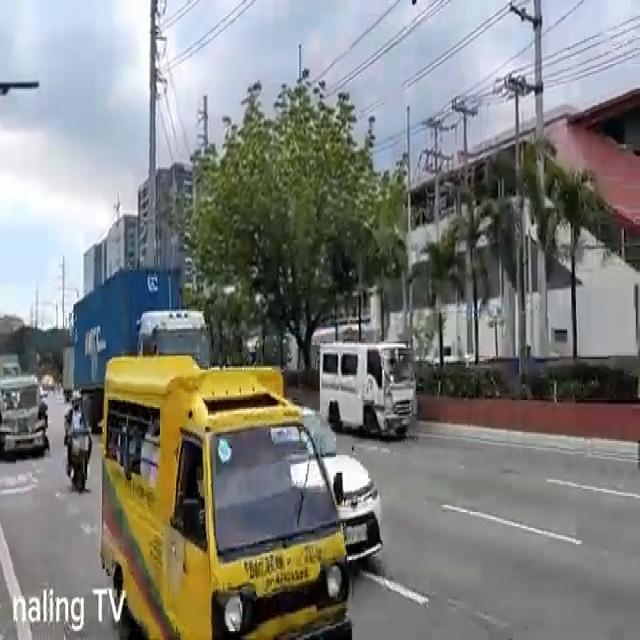bike: (66, 391, 92, 498)
bus: (100, 354, 351, 640)
jeepney: (0, 375, 49, 462)
truck: (70, 264, 208, 423)
